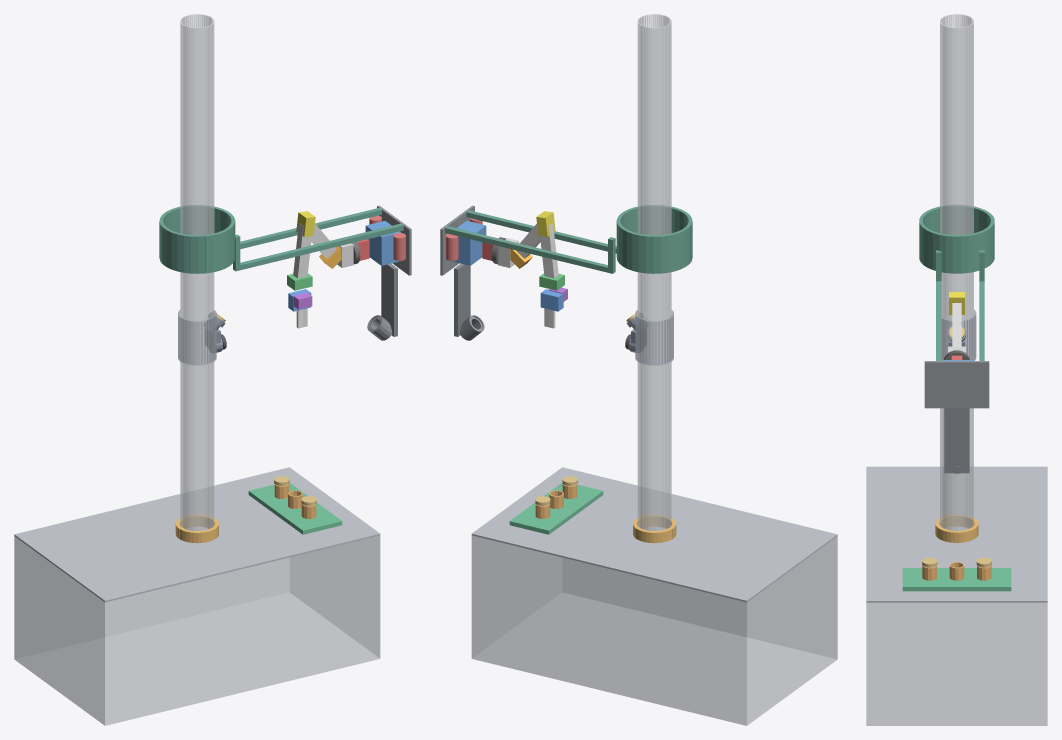
File: transplant-seedling-step4-seat-v2.glb
3 views of the same model, side by side, from view 1: azimuth 30°, elevation 25°; view 2: azimuth 150°, elevation 25°; view 3: azimuth 270°, elevation 25° (orthographic).
Size of the model in its own units: 0.854 by 1.55 by 0.4.
